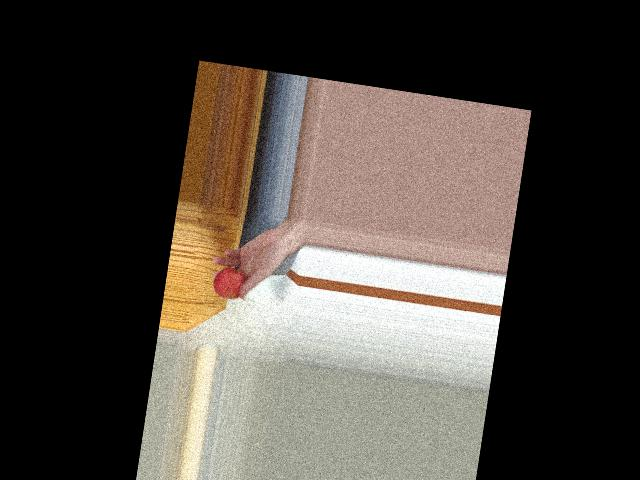apple: (211, 260, 252, 302)
